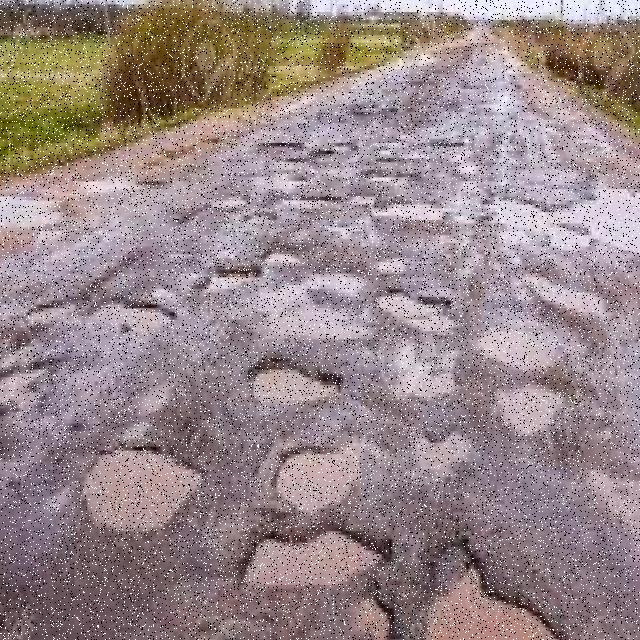pothole: (82, 450, 202, 531), (430, 577, 553, 640), (246, 535, 379, 589), (277, 447, 359, 512), (246, 358, 341, 404), (497, 385, 561, 435), (0, 350, 54, 408), (479, 331, 545, 377), (382, 277, 453, 304), (202, 266, 259, 297), (118, 301, 172, 331)
